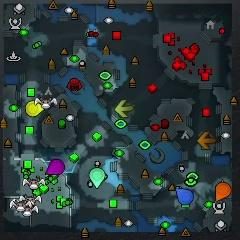p1: (175, 188, 193, 205)
p2: (89, 169, 105, 189)
p3: (46, 159, 65, 175)
p4: (26, 101, 45, 116)
p5: (216, 183, 232, 200)
x2: (115, 100, 133, 117)
x5: (197, 131, 216, 149)
